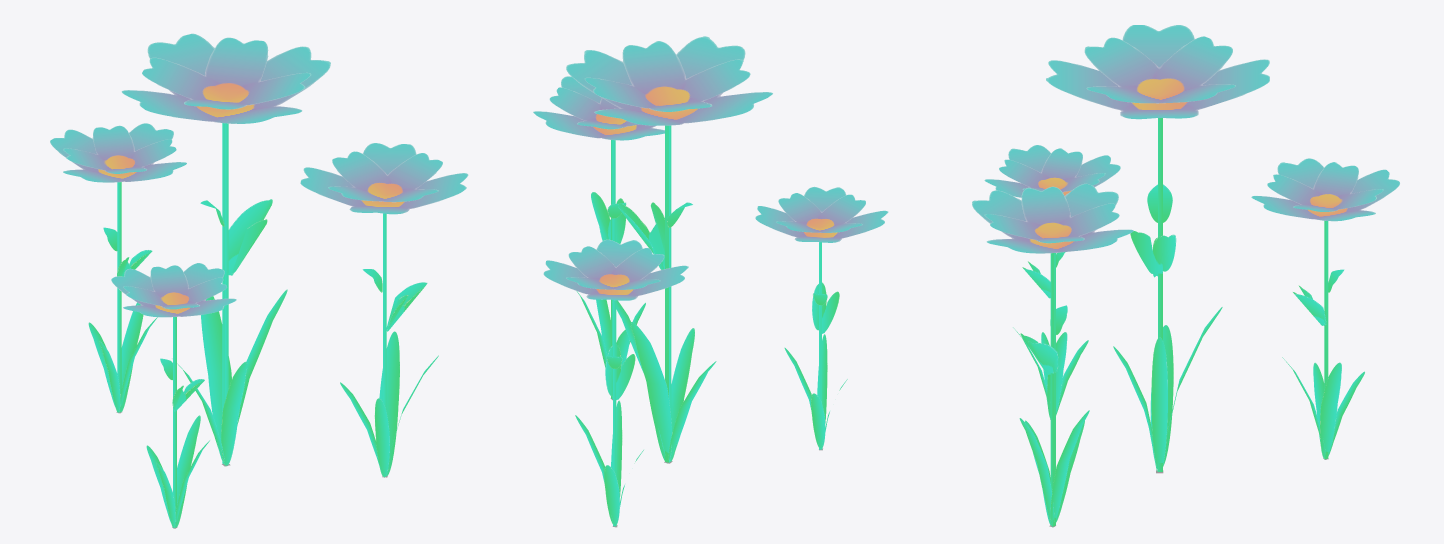
File: Flower_n_08.fbx
3 views of the same model, side by side, from view 1: azimuth 30°, elevation 25°; view 2: azimuth 150°, elevation 25°; view 3: azimuth 270°, elevation 25° (orthographic). The views are drawn at different scales.
Parts seen in each view (by area): view 1: polySurface403; view 2: polySurface403; view 3: polySurface403.
Boxes of the visible parts, x1,y1,x2,y2 form: polySurface403: (50, 33, 468, 528); polySurface403: (533, 36, 888, 527); polySurface403: (972, 25, 1399, 527).
Bounding box in the file's own units: 65.41 × 63.09 × 70.9.
2 materials, 1 textured.
